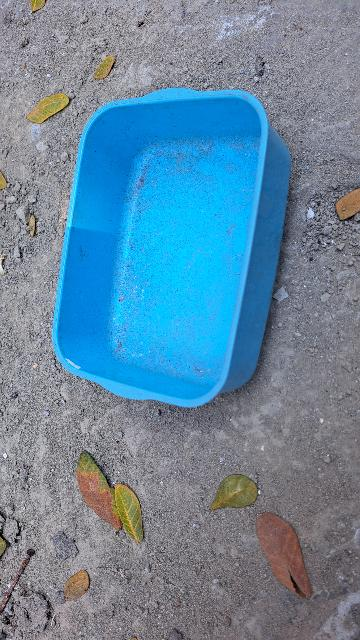hardplastic: (40, 61, 308, 431)
